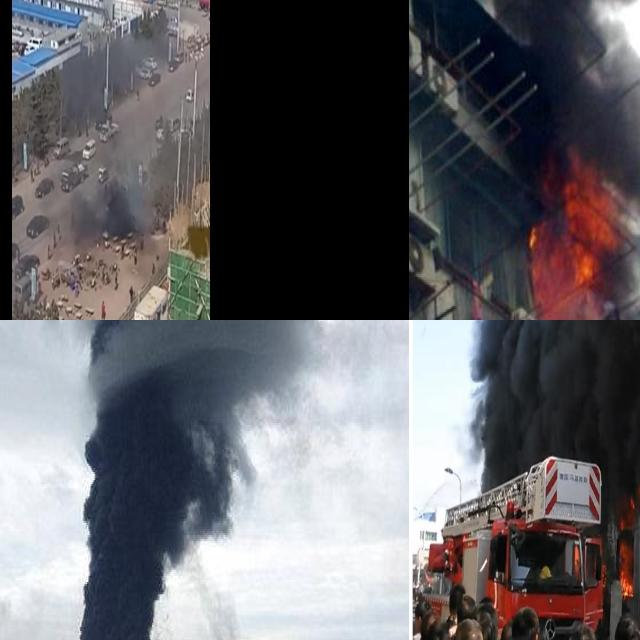fire: (528, 162, 629, 320), (60, 36, 144, 110), (616, 490, 640, 600)
smoke: (77, 320, 387, 640), (468, 320, 640, 498), (544, 45, 640, 200), (490, 0, 638, 37), (66, 172, 138, 244)
